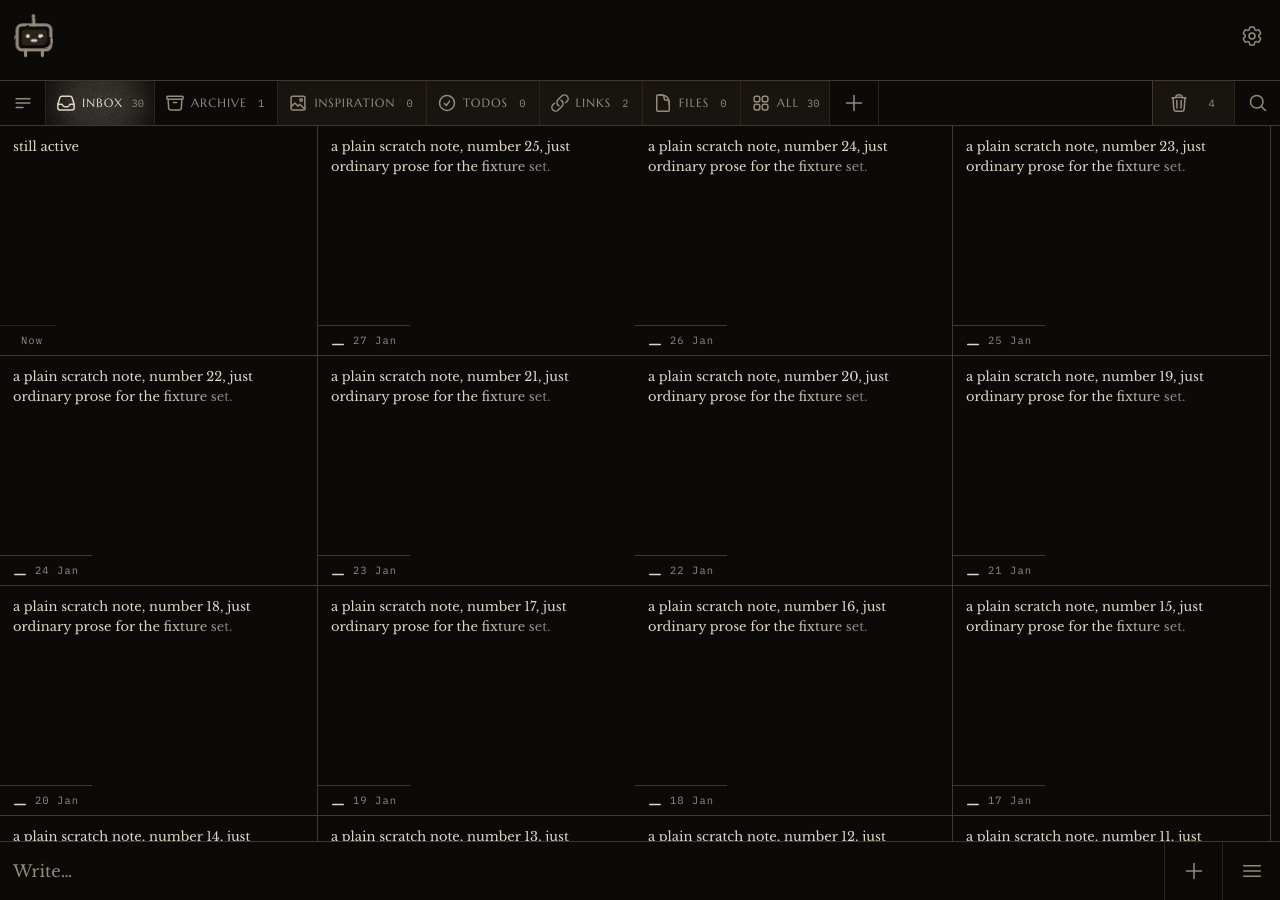
Scenario: dialog callers in App › opens the delete-board dialog from the board menu's Delete, naming the board
Check: the button "still active Now" is shown, box [0,126,318,356]
Click the button named "New board" at (855, 103), box [830,81,880,125]
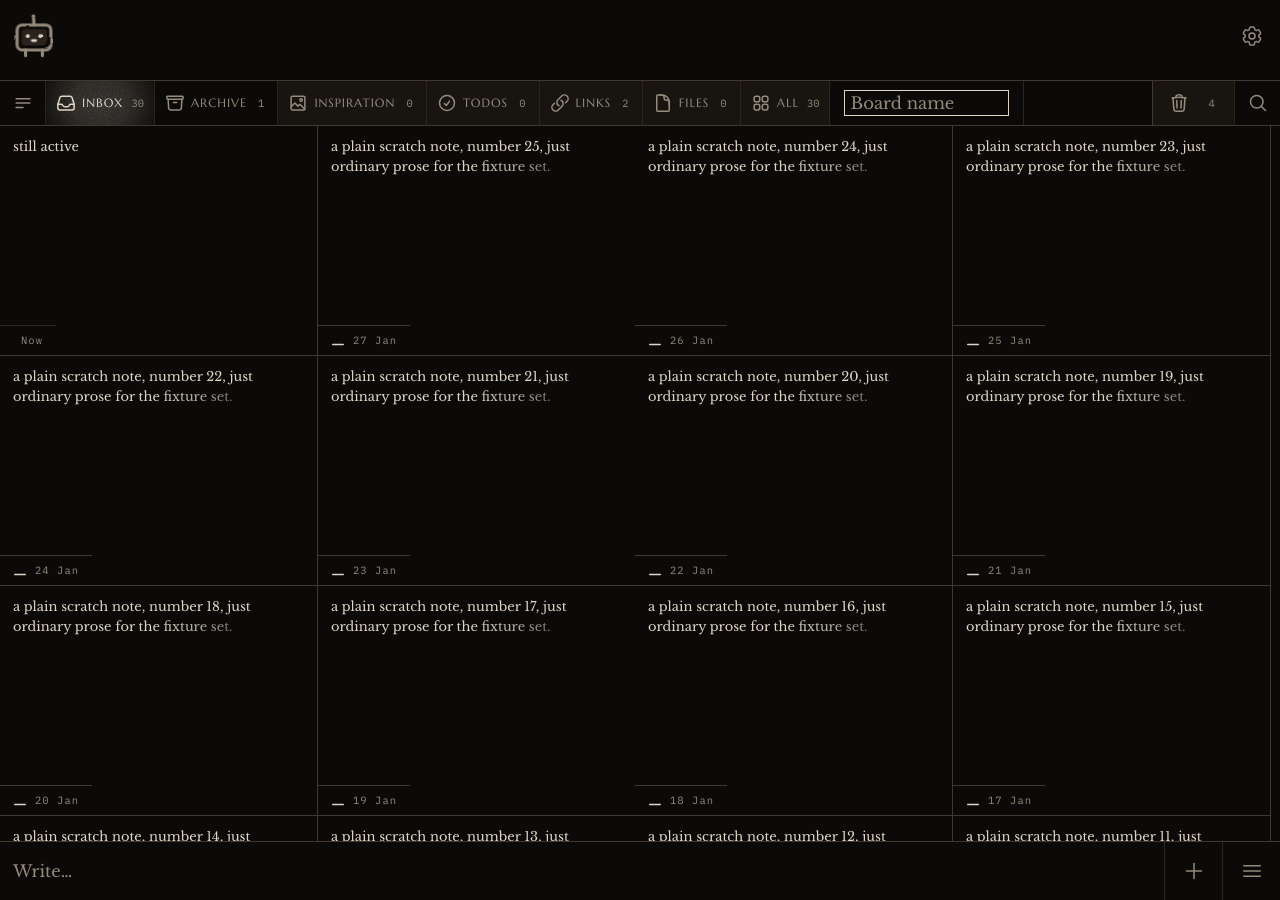
Type "zzz-dialog-bd-a" into the field named "New board name" at (927, 103), box [844,90,1009,116]
Press Enter in the field named "New board name", box [844,90,1009,116]
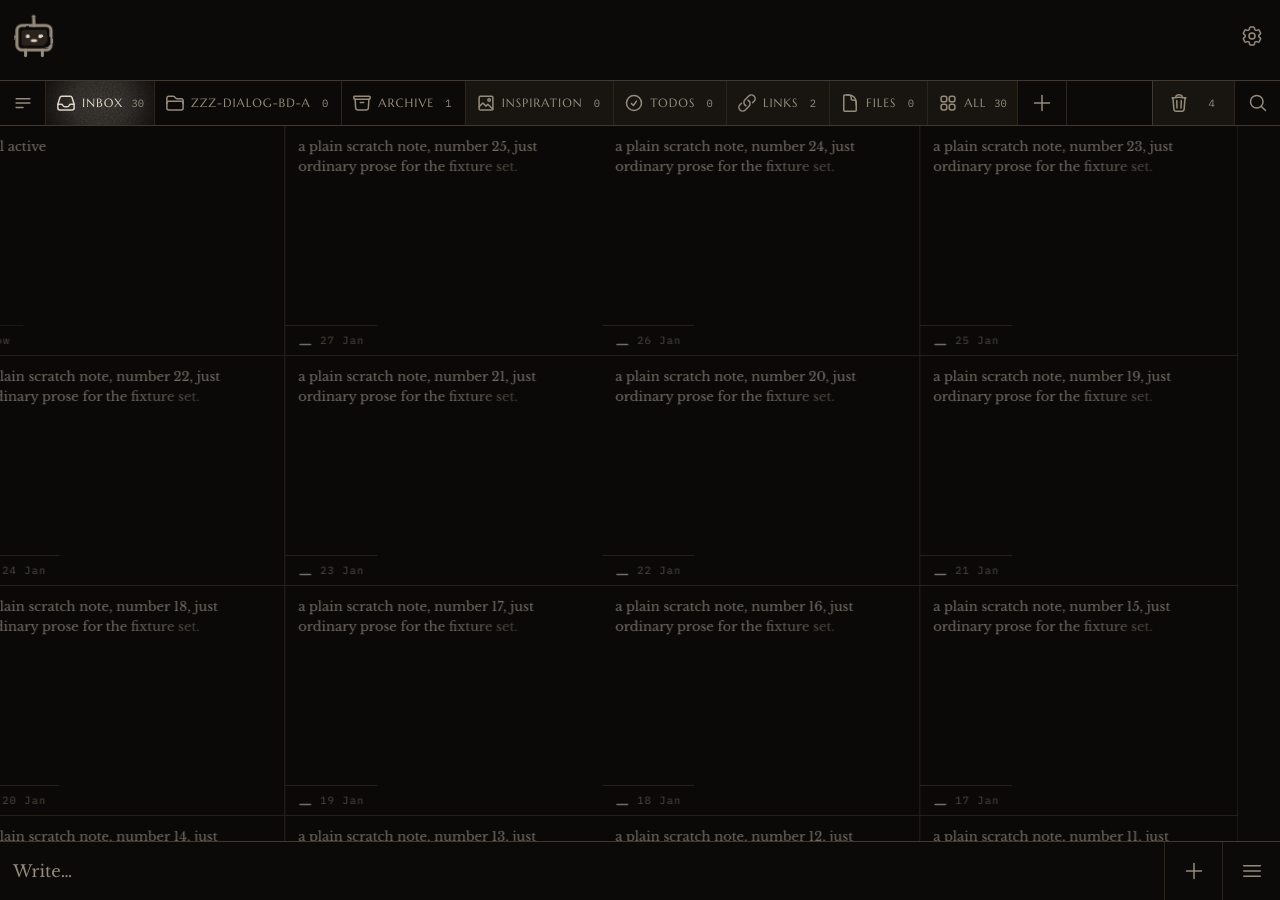
Click the button named "New board" at (1042, 103), box [1018,81,1067,125]
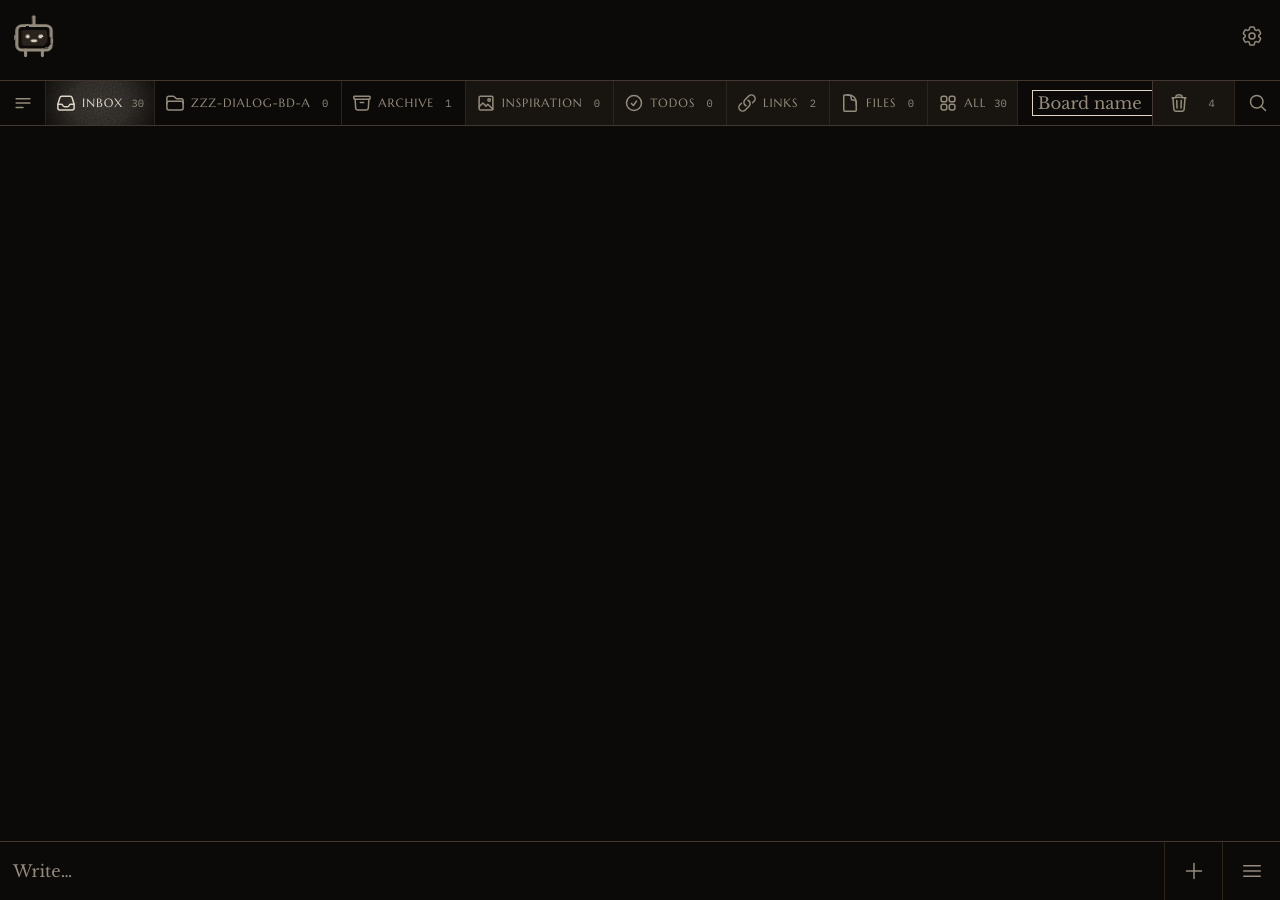
Type "zzz-dialog-bd-b" into the field named "New board name" at (1114, 103), box [1032,90,1197,116]
Press Enter in the field named "New board name", box [1032,90,1197,116]
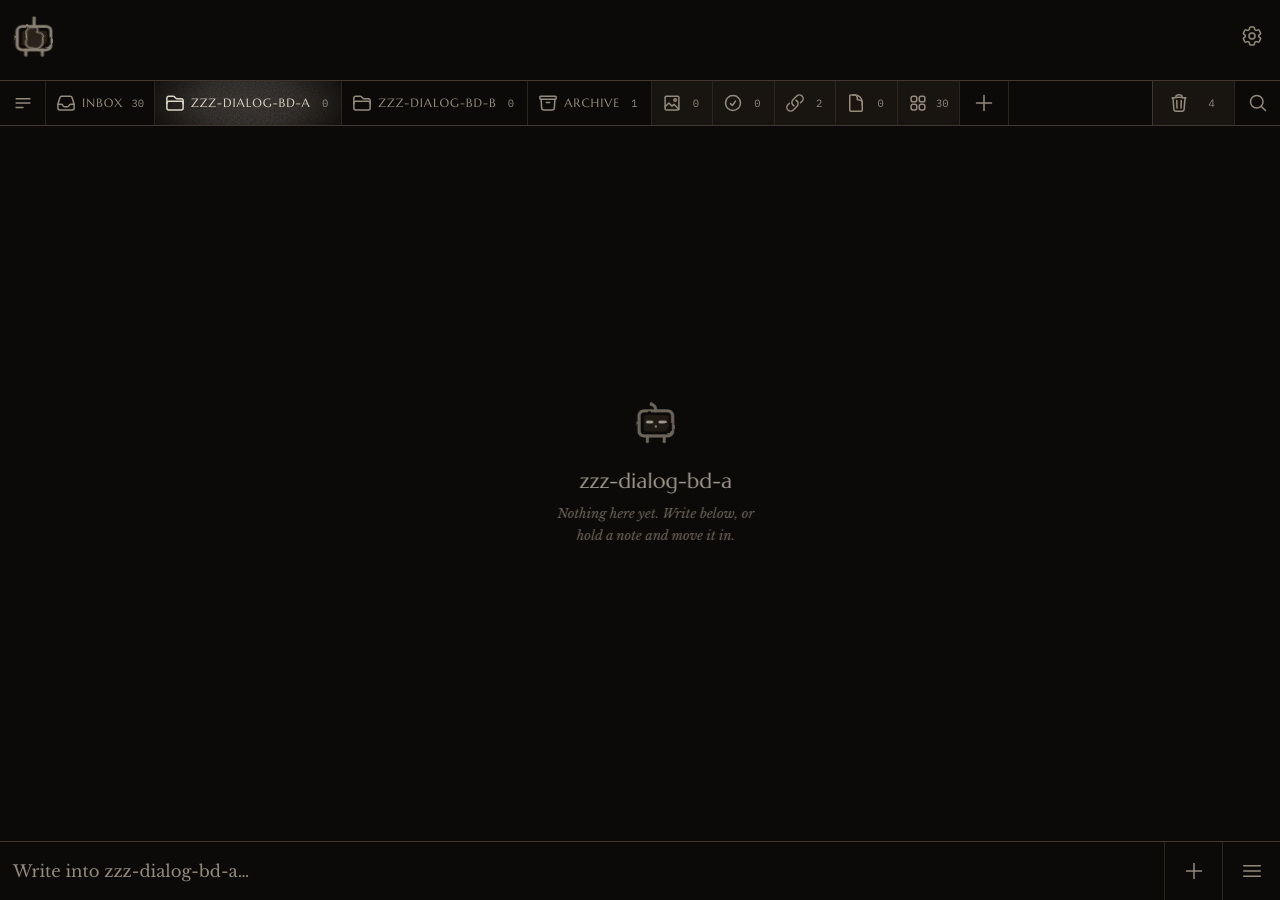
Right-click the tab "zzz-dialog-bd-a 0" at (249, 103), box [155,81,342,125]
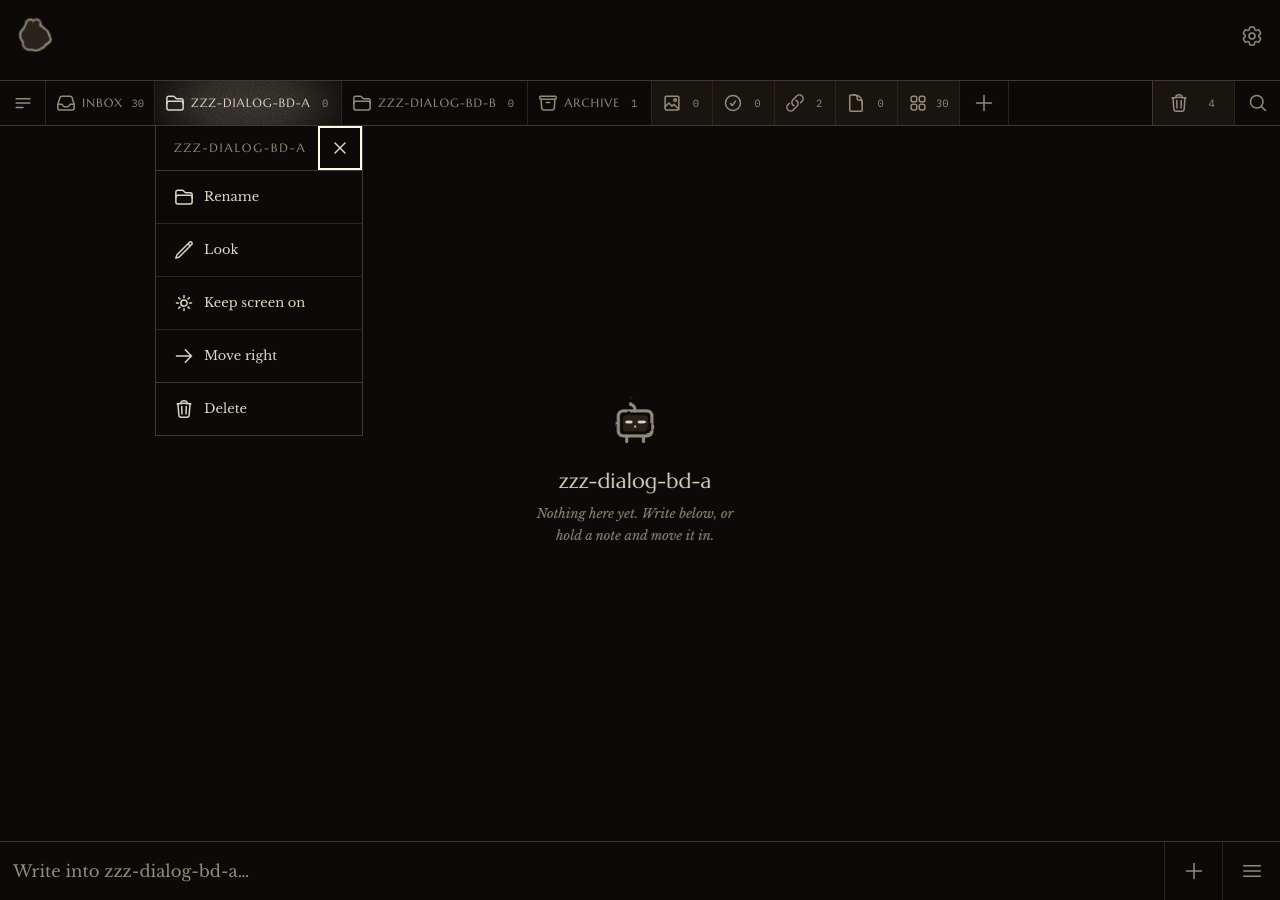
Click the button "Delete" at (259, 408), box [156,382,362,435]
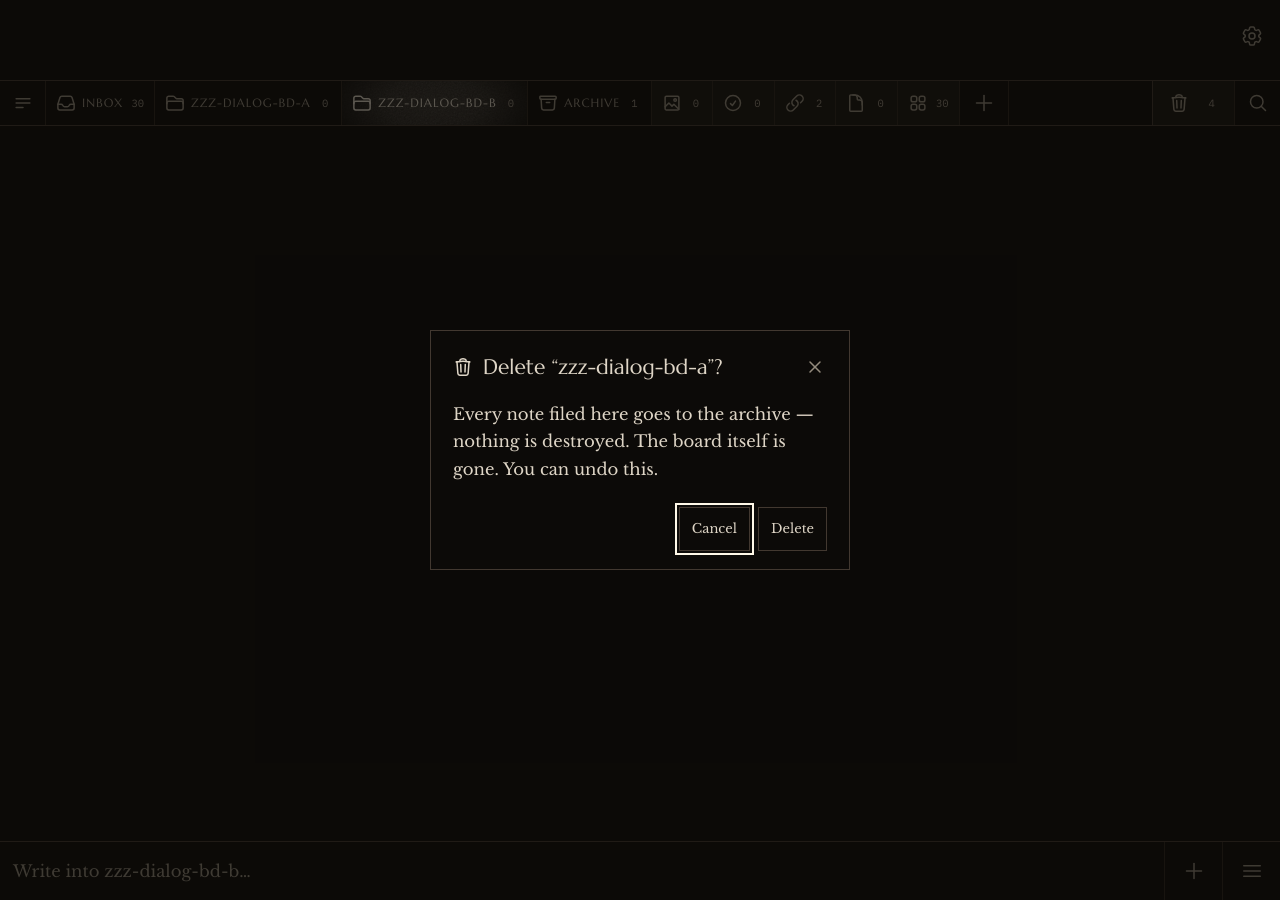
Check: the dialog named "Delete .zzz-dialog-bd-a." is shown, box [430,330,850,570]
